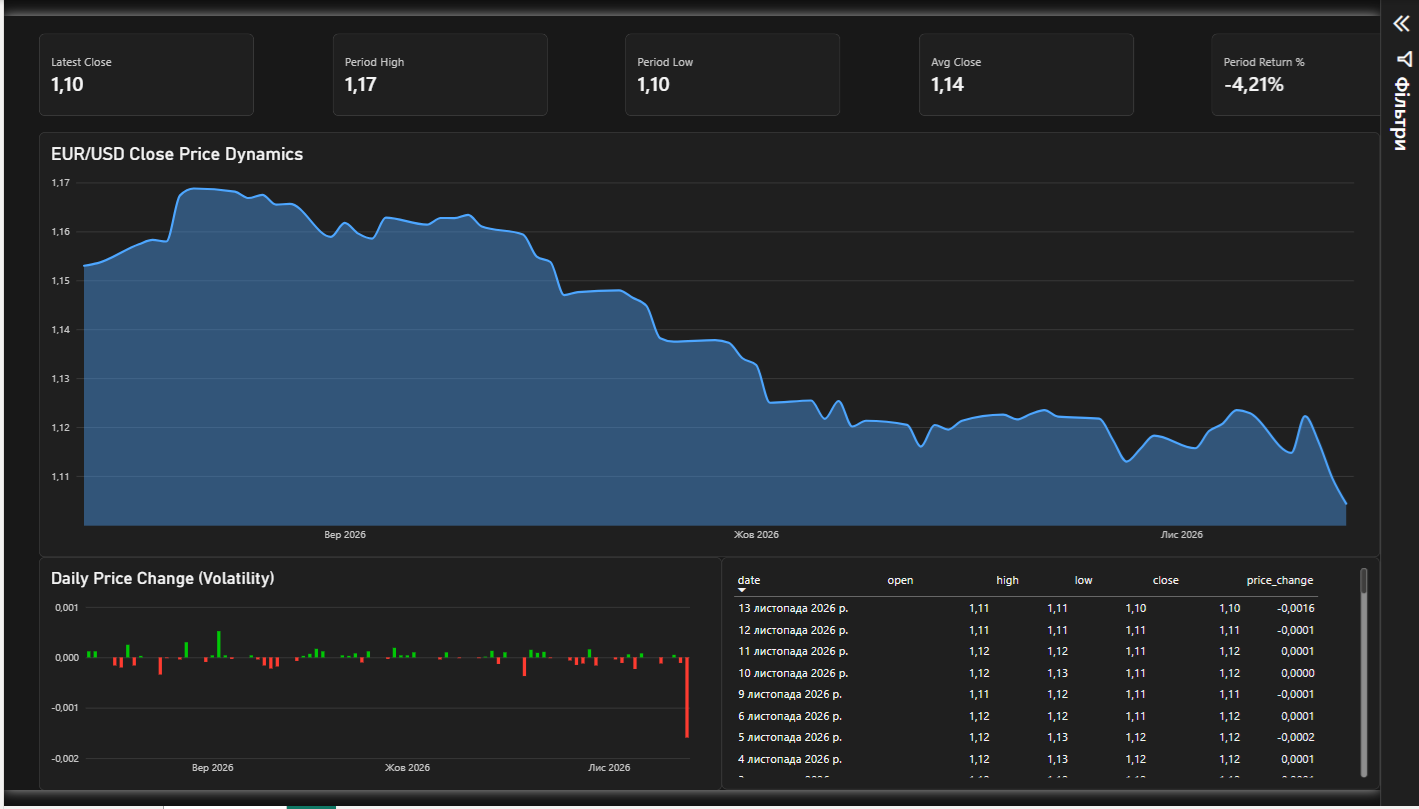

The dashboard page shown, as its layout file describes it:
{"tool":"powerbi","page":{"name":"Сторінка 1","canvas":[1920,1080],"ordinal":0},"visuals":[{"type":"cardVisual","fields":{"Data":["Min(processed_market_data.low)"]},"box":[867.6,25,300,115],"z":0},{"type":"cardVisual","fields":{"Data":["Max(processed_market_data.close)"]},"box":[458.5,25,300,115],"z":1000},{"type":"cardVisual","fields":{"Data":["Avg(processed_market_data.close)"]},"box":[1276.7,25,300,115],"z":2000},{"type":"cardVisual","fields":{"Data":["processed_market_data.Latest Close"]},"box":[49.4,25,300,115],"z":3000},{"type":"cardVisual","fields":{"Data":["processed_market_data.Period Return %"]},"box":[1685,24.7,300,115],"z":4000},{"type":"areaChart","title":"EUR/USD Close Price Dynamics","fields":{"Category":["processed_market_data.date"],"Y":["Sum(processed_market_data.close)"]},"box":[49.4,162.6,1871,592.8],"z":4001},{"type":"columnChart","title":"Daily Price Change (Volatility)","fields":{"Category":["processed_market_data.date"],"Y":["Sum(processed_market_data.price_change)"]},"box":[49.4,755.4,953,325.2],"z":4002},{"type":"tableEx","fields":{"Values":["processed_market_data.date","processed_market_data.open","processed_market_data.high","processed_market_data.low","processed_market_data.close","processed_market_data.price_change"]},"box":[1002,756,918,324],"z":4003}]}

Visuals, with their boxes in screenshot pixels (x1, y1, x2, y2):
cardVisual - Min(processed_market_data.low): (left=577, top=58, right=788, bottom=139)
cardVisual - Max(processed_market_data.close): (left=289, top=58, right=500, bottom=139)
cardVisual - Avg(processed_market_data.close): (left=864, top=58, right=1075, bottom=139)
cardVisual - processed_market_data.Latest Close: (left=1, top=58, right=212, bottom=139)
cardVisual - processed_market_data.Period Return %: (left=1151, top=58, right=1362, bottom=139)
"EUR/USD Close Price Dynamics" areaChart: (left=1, top=155, right=1317, bottom=572)
"Daily Price Change (Volatility)" columnChart: (left=1, top=572, right=671, bottom=800)
tableEx - processed_market_data.date x processed_market_data.open: (left=671, top=572, right=1317, bottom=800)
